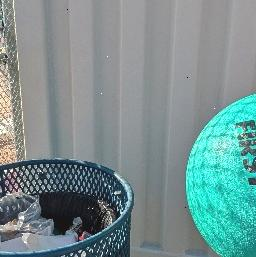algae: (185, 90, 256, 257)
